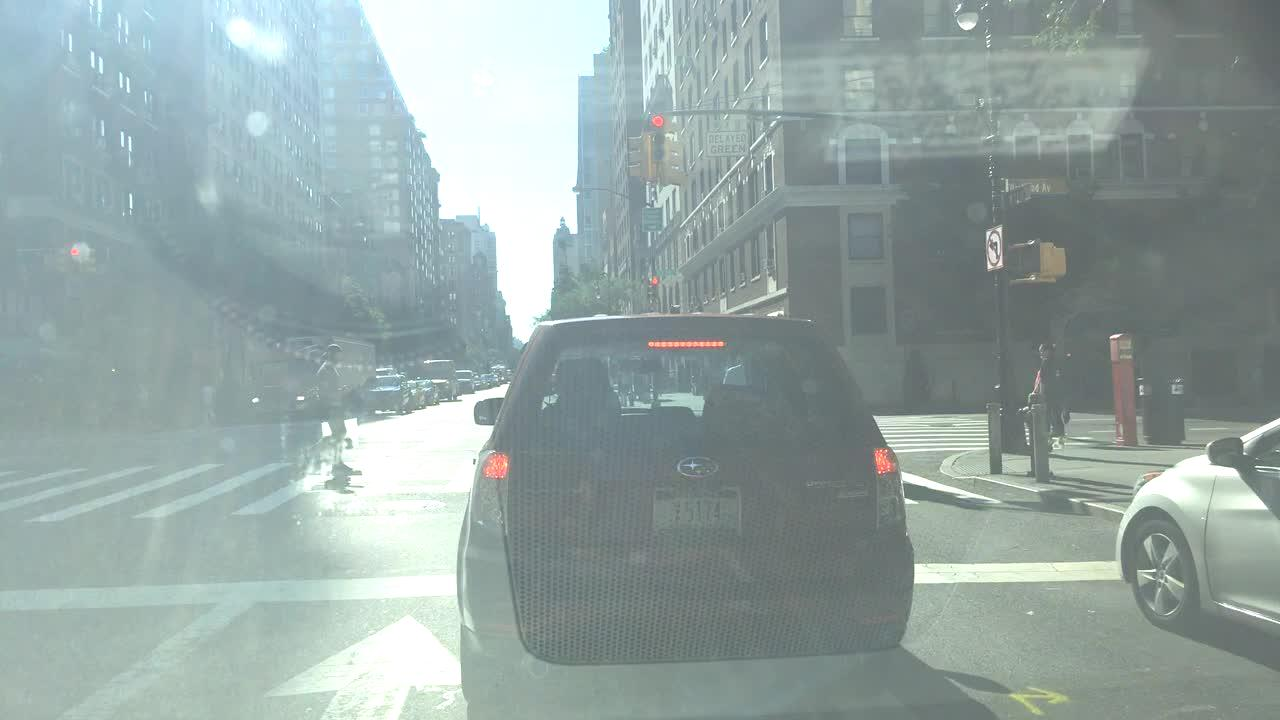subaru: (673, 454, 724, 481)
